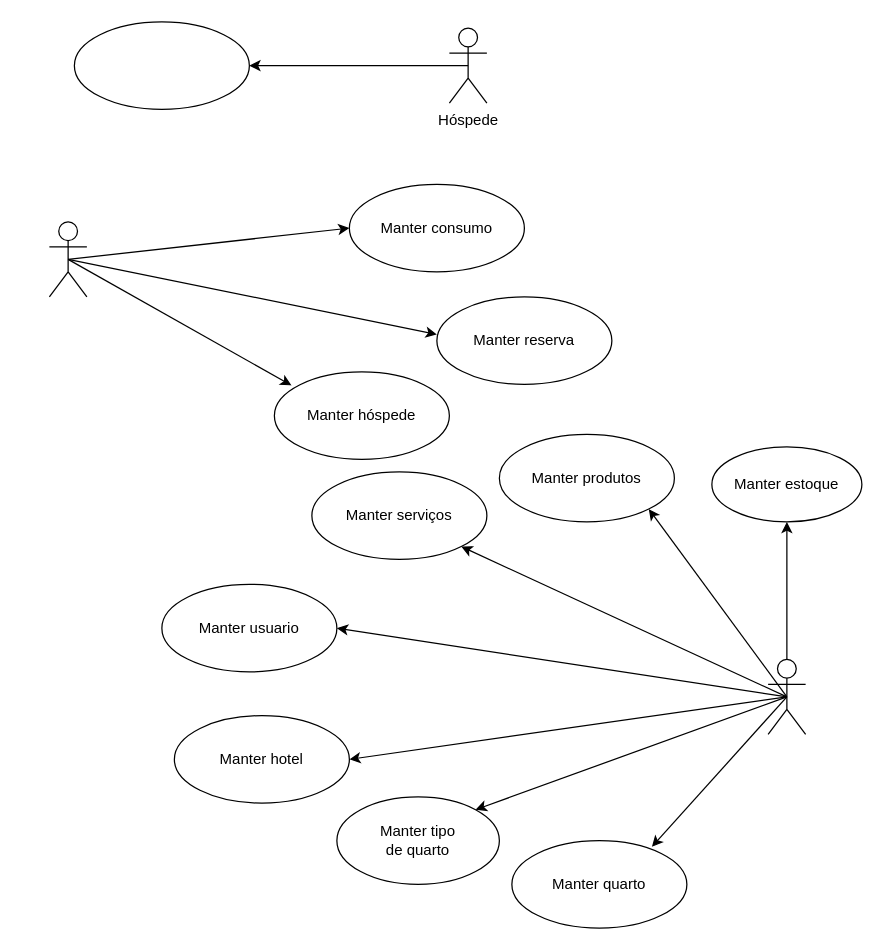
Image size: 884x950. Some labels were removed from this diagram. Each missing label, with the centre of its shape:
"Gerente" belongs at pixel 786 696.
"Realizar reserva" belongs at pixel 161 65.
"Recepcionista" belongs at pixel 67 259.
